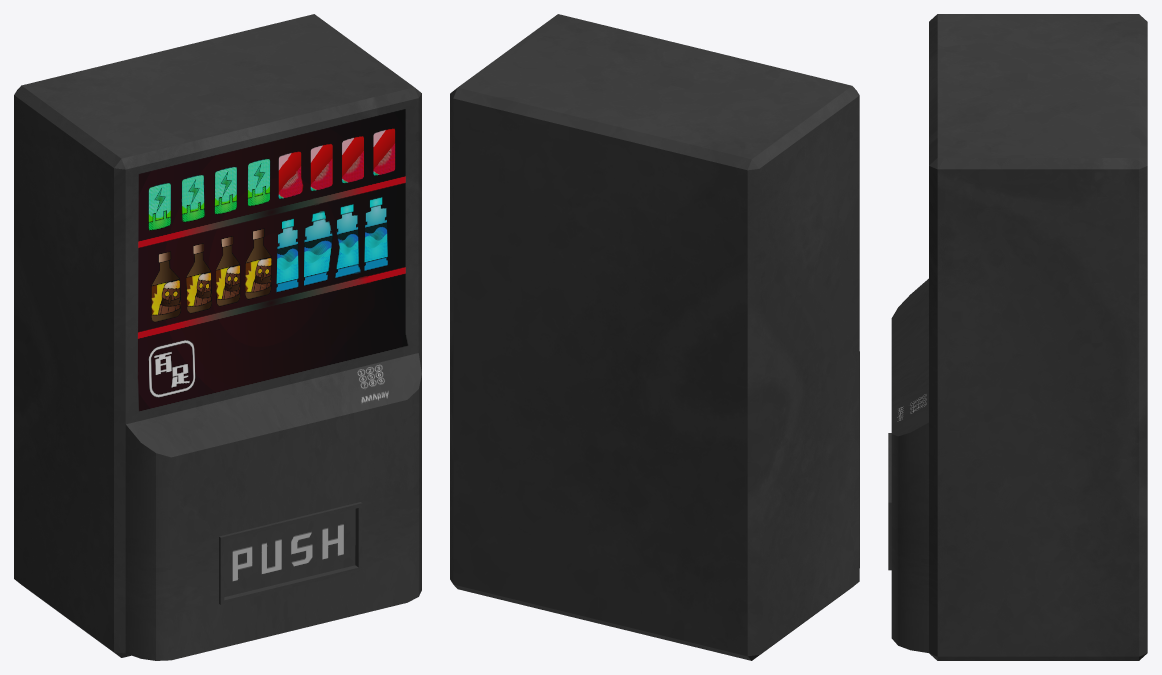
File: zihanki.fbx
3 views of the same model, side by side, from view 1: azimuth 30°, elevation 25°; view 2: azimuth 150°, elevation 25°; view 3: azimuth 270°, elevation 25° (orthographic).
Visible parts, largest first — view 1: zihanki; view 2: zihanki; view 3: zihanki.
Boxes of the visible parts, left/top/right/bottom form: zihanki: left=14, top=14, right=421, bottom=660; zihanki: left=450, top=14, right=859, bottom=660; zihanki: left=888, top=14, right=1147, bottom=660.
Bounding box in the file's own units: 1.27 × 1.97 × 0.9212.
1 material, 1 textured.
